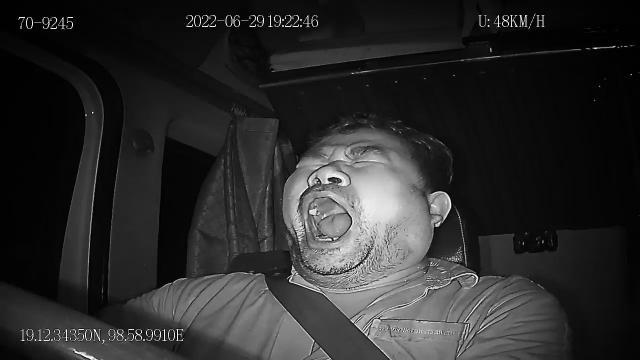Seatbelt: (264, 272, 392, 360)
